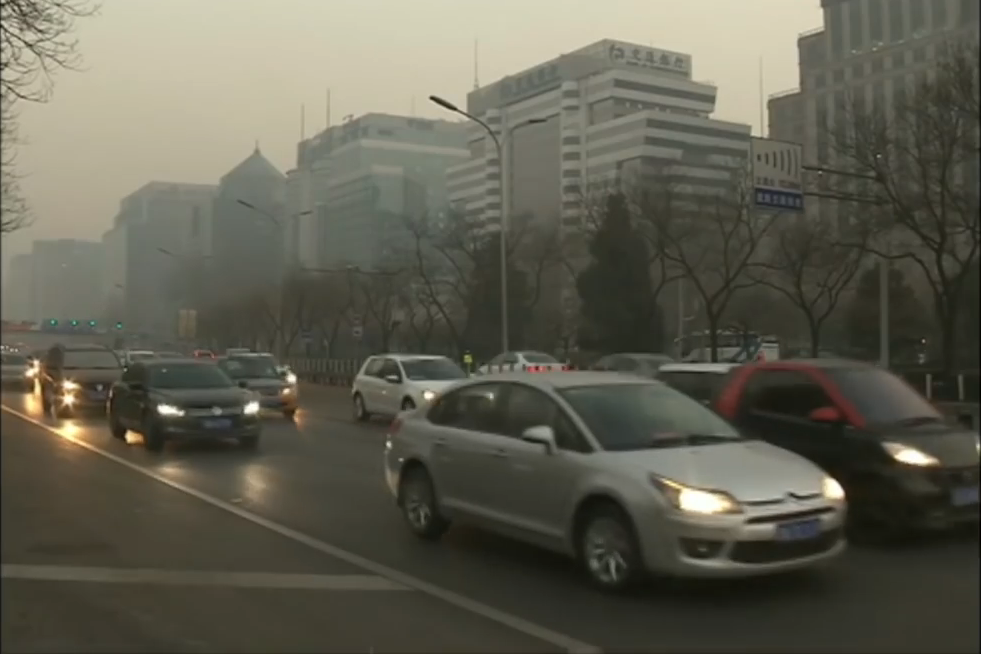car: (381, 368, 849, 594), (703, 360, 981, 549), (103, 356, 264, 454), (351, 355, 473, 425), (37, 342, 127, 420), (205, 354, 296, 422), (648, 357, 763, 409), (469, 350, 570, 388), (1, 350, 36, 395)
